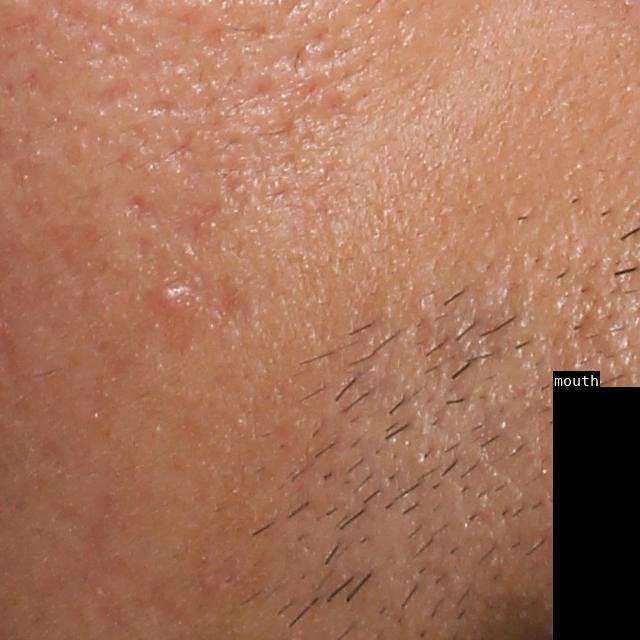papule: (156, 281, 192, 313)
